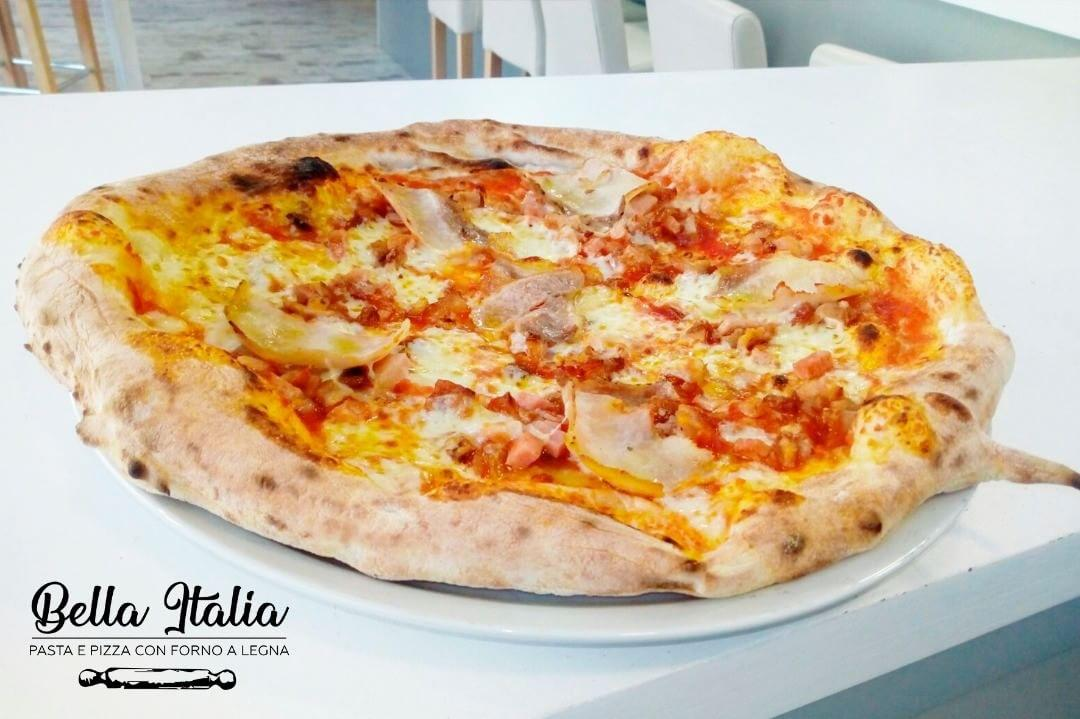Cheese: (558, 373, 714, 497), (224, 277, 414, 376), (355, 160, 484, 257), (705, 248, 868, 302), (538, 150, 654, 208)
Mushroom: (472, 260, 586, 348)
Pizza: (10, 119, 1054, 600)
